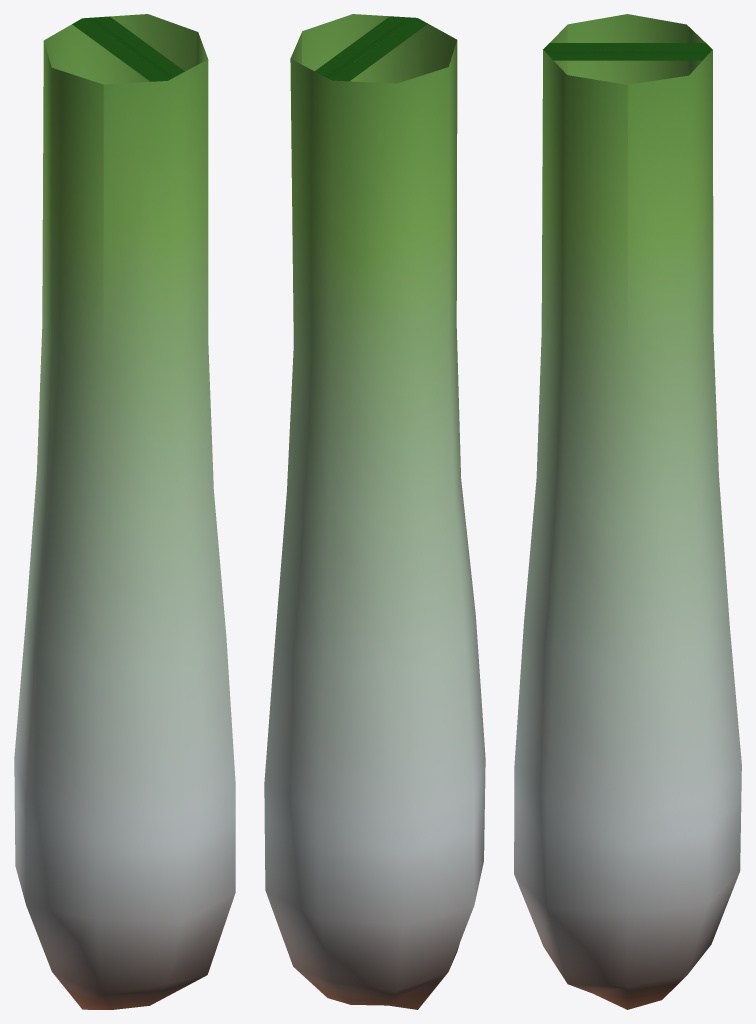
The model's file is onion3.fbx.
3 renders of one model, left to right at view 1: azimuth 30°, elevation 25°; view 2: azimuth 150°, elevation 25°; view 3: azimuth 270°, elevation 25°, orthographic.
Visible parts, largest first — view 1: GreenOnion; view 2: GreenOnion; view 3: GreenOnion.
Part boxes in pixels (x1,y1,x2,y2): GreenOnion: [14, 14, 235, 1009]; GreenOnion: [264, 14, 485, 1009]; GreenOnion: [514, 14, 741, 1009].
Bounding box in the file's own units: 48.41 × 224 × 49.01.
